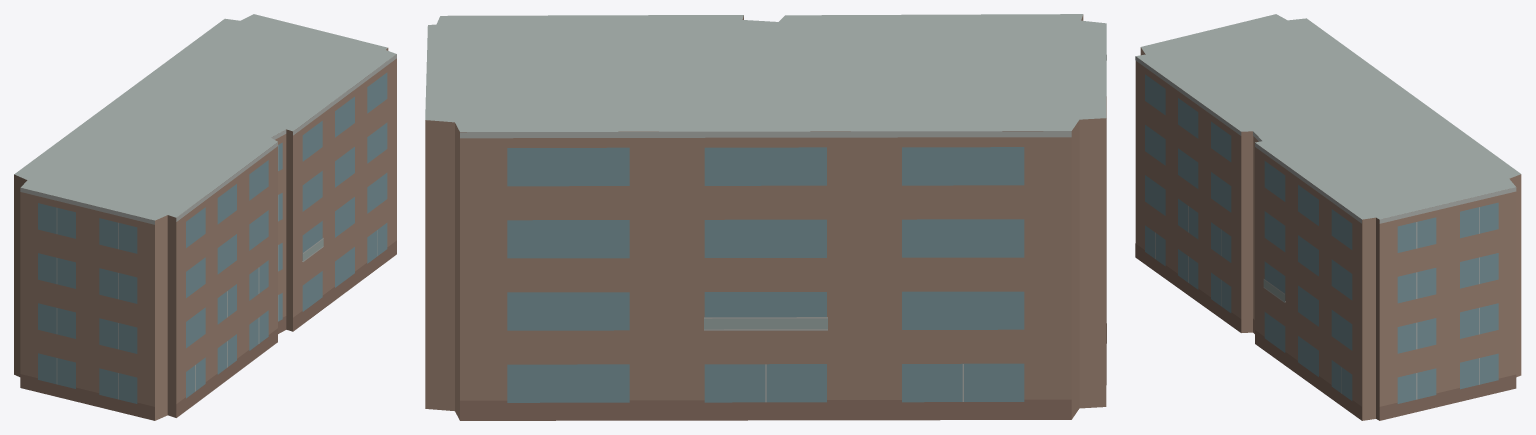
The model's file is survey-upis-32720522.glb.
The picture shows the model from 3 angles, left to right: view 1: azimuth 30°, elevation 25°; view 2: azimuth 150°, elevation 25°; view 3: azimuth 270°, elevation 25°; orthographic projection. The views are drawn at different scales.
Visible parts, largest first — view 1: survey-upis-32720522.tmp; view 2: survey-upis-32720522.tmp; view 3: survey-upis-32720522.tmp.
Boxes of the visible parts, x1,y1,x2,y2 form: survey-upis-32720522.tmp: (14, 14, 396, 420); survey-upis-32720522.tmp: (425, 14, 1106, 420); survey-upis-32720522.tmp: (1135, 14, 1521, 420).
Size of the model in its own units: 24.97 by 11.4 by 19.81.
